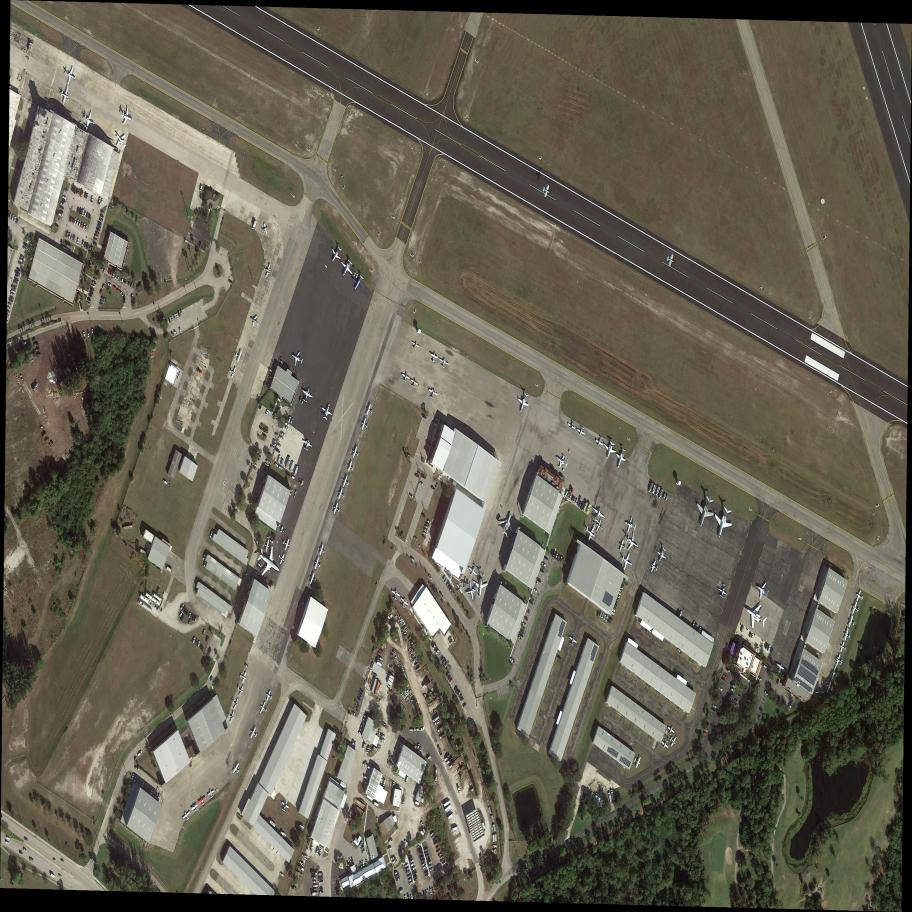large-vehicle: (421, 679, 431, 689), (285, 456, 292, 469), (444, 803, 453, 813), (268, 819, 277, 828), (443, 799, 452, 808), (655, 485, 661, 497), (293, 465, 299, 477), (648, 482, 654, 494), (289, 461, 295, 472), (651, 484, 657, 495), (658, 489, 664, 500), (447, 812, 455, 820), (379, 732, 387, 740), (610, 790, 615, 802), (251, 221, 257, 230), (608, 793, 613, 803), (377, 655, 384, 662), (363, 714, 370, 721), (451, 826, 459, 832), (457, 786, 462, 795), (351, 739, 356, 748), (353, 741, 358, 750), (416, 743, 421, 752), (379, 737, 386, 743), (362, 718, 369, 724), (361, 721, 368, 727), (360, 724, 367, 730), (359, 728, 366, 734), (417, 747, 423, 754), (362, 742, 367, 750), (366, 746, 371, 754), (378, 648, 384, 654), (377, 651, 383, 657), (358, 731, 364, 737), (299, 396, 302, 403), (409, 729, 415, 732), (301, 399, 304, 405), (420, 728, 424, 730)
plane: (250, 540, 288, 586), (739, 597, 772, 636), (690, 491, 720, 531), (708, 503, 737, 544), (495, 507, 519, 541), (334, 255, 359, 283), (108, 126, 132, 154), (347, 271, 370, 296), (586, 504, 611, 527), (622, 530, 643, 557), (326, 242, 347, 268), (513, 390, 533, 417), (550, 450, 573, 473), (599, 438, 620, 463), (752, 577, 772, 603), (611, 446, 630, 473), (581, 520, 600, 546), (472, 573, 489, 600), (287, 347, 306, 371), (618, 550, 637, 574), (80, 109, 98, 134), (119, 105, 137, 129), (318, 400, 336, 423), (298, 384, 316, 407), (622, 514, 639, 537), (653, 544, 670, 566), (438, 573, 455, 594), (465, 580, 480, 602), (63, 65, 78, 87), (58, 85, 72, 107), (465, 561, 481, 580), (435, 355, 453, 371), (396, 594, 412, 611), (714, 585, 731, 601), (229, 760, 244, 778), (178, 808, 194, 824), (257, 699, 271, 717), (247, 725, 261, 743), (339, 473, 353, 491), (248, 312, 262, 330), (565, 634, 581, 649), (300, 437, 314, 454), (349, 444, 362, 462), (306, 570, 319, 588), (311, 555, 324, 573), (261, 261, 274, 279), (593, 518, 606, 536), (648, 558, 661, 576), (849, 600, 862, 618), (277, 799, 292, 814), (773, 661, 788, 676), (426, 351, 442, 365), (330, 500, 343, 517), (334, 487, 347, 504), (426, 386, 440, 401), (407, 376, 422, 390), (574, 424, 589, 438), (275, 550, 288, 566), (359, 416, 371, 433), (363, 402, 375, 419), (854, 588, 866, 605), (845, 614, 857, 631), (833, 652, 845, 669), (664, 724, 678, 738), (658, 738, 672, 752), (398, 371, 413, 384), (389, 587, 402, 602), (667, 734, 680, 749), (540, 183, 552, 199), (280, 536, 292, 552), (227, 364, 239, 380), (232, 348, 244, 364), (616, 538, 628, 554), (631, 754, 643, 770), (842, 627, 853, 644), (824, 679, 835, 696), (408, 340, 422, 353), (565, 419, 579, 432), (196, 795, 210, 808), (263, 689, 275, 704), (453, 582, 465, 597), (594, 434, 606, 449), (235, 682, 246, 698), (238, 669, 249, 685), (345, 459, 356, 475), (665, 252, 676, 268), (317, 543, 327, 559), (830, 666, 840, 682), (230, 697, 240, 712), (838, 641, 848, 655), (262, 538, 271, 553), (189, 803, 201, 814), (227, 710, 236, 724), (260, 222, 269, 236), (206, 788, 216, 800), (815, 688, 824, 698), (462, 577, 470, 588)
ship: (279, 830, 288, 838), (196, 370, 205, 377), (277, 358, 284, 365), (298, 824, 305, 831), (268, 375, 274, 381), (265, 409, 269, 416), (268, 368, 273, 372), (263, 381, 267, 386)
small-vehicle: (445, 758, 455, 766), (443, 754, 452, 762), (432, 715, 441, 723), (301, 853, 309, 861), (439, 733, 447, 740), (760, 663, 768, 670), (422, 527, 430, 534), (441, 658, 448, 666), (413, 473, 421, 480), (420, 413, 428, 420), (403, 839, 410, 847), (162, 479, 169, 486), (434, 719, 441, 726), (523, 615, 530, 622), (432, 839, 439, 846), (710, 706, 717, 713), (409, 556, 416, 563), (429, 484, 436, 491), (432, 646, 439, 653), (420, 473, 427, 480), (257, 424, 264, 431), (261, 432, 268, 439), (262, 428, 269, 435), (276, 441, 283, 448), (274, 447, 281, 454), (387, 837, 394, 844), (183, 607, 189, 615), (91, 241, 99, 247), (437, 726, 445, 732), (535, 577, 543, 583), (420, 821, 426, 829), (360, 843, 366, 851), (580, 502, 585, 511), (678, 610, 683, 619), (115, 287, 122, 293), (85, 301, 92, 307), (86, 296, 93, 302), (14, 270, 21, 276), (88, 289, 95, 295), (137, 750, 143, 757), (92, 277, 99, 283), (208, 675, 214, 682), (53, 222, 60, 228), (99, 209, 106, 215), (96, 223, 102, 230), (425, 755, 432, 761), (362, 779, 369, 785), (363, 775, 370, 781), (362, 761, 369, 767), (366, 765, 373, 771), (509, 658, 516, 664), (518, 632, 525, 638), (519, 628, 526, 634), (539, 568, 546, 574), (410, 866, 417, 872), (420, 858, 427, 864), (426, 860, 433, 866), (441, 861, 448, 867), (436, 849, 443, 855), (435, 845, 442, 851), (720, 676, 727, 682), (726, 696, 733, 702), (726, 667, 732, 674), (764, 690, 770, 697), (676, 648, 683, 654), (607, 615, 614, 621), (556, 654, 562, 661), (613, 595, 620, 601), (614, 593, 621, 599), (428, 575, 434, 582), (412, 536, 419, 542), (420, 533, 427, 539), (441, 595, 447, 602), (443, 578, 449, 585), (445, 580, 451, 587), (432, 643, 438, 650), (434, 649, 441, 655), (447, 635, 453, 642), (445, 671, 451, 678), (267, 451, 273, 458), (271, 438, 278, 444), (283, 424, 289, 431), (285, 472, 292, 478), (456, 691, 462, 698), (390, 855, 397, 861), (407, 877, 414, 883), (299, 861, 306, 867), (145, 785, 150, 793), (180, 614, 185, 622), (207, 648, 212, 656), (205, 635, 210, 643), (194, 638, 199, 646), (10, 214, 15, 222), (554, 553, 559, 561), (564, 490, 569, 498), (566, 491, 571, 499), (788, 703, 793, 711), (287, 416, 292, 424), (315, 847, 320, 855), (50, 873, 56, 879), (112, 284, 118, 290), (107, 282, 113, 288), (73, 217, 77, 226), (13, 276, 19, 282), (12, 280, 18, 286), (23, 836, 29, 842), (254, 570, 260, 576), (18, 849, 24, 855), (28, 856, 34, 862), (57, 873, 63, 879), (59, 857, 65, 863), (19, 254, 25, 260), (11, 285, 17, 291), (8, 295, 14, 301), (95, 226, 101, 232), (528, 599, 534, 605), (533, 587, 539, 593), (541, 562, 547, 568), (543, 555, 549, 561), (410, 862, 416, 868), (407, 855, 413, 861), (437, 852, 443, 858), (431, 834, 437, 840), (718, 686, 724, 692), (728, 690, 734, 696), (731, 683, 737, 689), (716, 689, 722, 695), (732, 701, 738, 707), (757, 676, 763, 682), (606, 618, 612, 624), (616, 587, 622, 593), (256, 452, 262, 458), (422, 531, 428, 537), (458, 693, 464, 699), (425, 522, 431, 528), (420, 512, 426, 518), (419, 480, 425, 486), (443, 662, 449, 668), (274, 432, 280, 438), (279, 435, 285, 441), (392, 858, 398, 864), (407, 873, 413, 879), (109, 270, 114, 277), (87, 293, 94, 298), (17, 261, 24, 266), (15, 267, 22, 272), (90, 284, 97, 289), (173, 329, 178, 336), (170, 331, 175, 338), (180, 604, 185, 611), (149, 788, 154, 795), (151, 790, 156, 797), (154, 793, 159, 800), (156, 794, 161, 801), (182, 605, 187, 612), (192, 637, 197, 644), (406, 851, 411, 858), (432, 837, 439, 842), (750, 633, 755, 640), (552, 550, 557, 557), (596, 610, 601, 617), (617, 585, 624, 590), (662, 492, 667, 499), (411, 870, 418, 875), (269, 445, 276, 450), (431, 422, 438, 427), (284, 422, 291, 427), (300, 480, 305, 487), (359, 841, 364, 848), (404, 867, 411, 872), (125, 278, 129, 286), (132, 281, 136, 289), (130, 280, 134, 288), (147, 787, 151, 795), (131, 773, 135, 781), (141, 781, 145, 789), (143, 783, 147, 791), (69, 215, 73, 223), (81, 209, 85, 217), (79, 208, 83, 216), (210, 530, 214, 538), (203, 553, 207, 561), (192, 614, 196, 622), (194, 615, 198, 623), (85, 242, 89, 250), (15, 217, 19, 225), (73, 186, 77, 194), (80, 190, 84, 198), (98, 198, 102, 206), (405, 776, 409, 784), (557, 554, 561, 562), (698, 626, 702, 634), (603, 613, 607, 621), (694, 622, 698, 630), (424, 889, 428, 897), (310, 844, 314, 852), (318, 849, 322, 857), (120, 291, 125, 297), (98, 302, 104, 307), (22, 341, 28, 346), (22, 246, 28, 251), (19, 258, 25, 263), (14, 274, 20, 279), (7, 302, 13, 307), (4, 840, 10, 845), (253, 462, 258, 468), (252, 465, 258, 470), (279, 872, 285, 877), (269, 539, 275, 544), (51, 857, 57, 862), (244, 663, 249, 669), (57, 212, 63, 217), (58, 209, 64, 214), (59, 205, 65, 210), (61, 198, 66, 204), (63, 188, 69, 193), (98, 217, 104, 222), (255, 456, 261, 461), (522, 622, 528, 627), (402, 796, 405, 806), (409, 859, 415, 864), (423, 870, 429, 875), (422, 865, 428, 870), (421, 862, 427, 867), (419, 855, 425, 860), (423, 847, 429, 852), (427, 864, 433, 869), (428, 868, 434, 873), (440, 858, 446, 863), (439, 855, 445, 860), (430, 831, 436, 836), (728, 694, 734, 699), (730, 687, 736, 692), (722, 674, 728, 679), (712, 704, 718, 709), (705, 723, 711, 728), (734, 698, 739, 704), (746, 698, 752, 703), (609, 611, 615, 616), (611, 605, 617, 610), (612, 602, 618, 607), (619, 582, 625, 587), (438, 590, 443, 596), (424, 525, 430, 530), (426, 520, 432, 525), (449, 586, 454, 592), (449, 639, 454, 645), (447, 675, 452, 681), (453, 686, 459, 691), (416, 471, 422, 476), (264, 462, 270, 467), (263, 466, 269, 471), (262, 469, 268, 474), (273, 463, 279, 468), (265, 459, 271, 464), (280, 432, 286, 437), (361, 848, 366, 854), (395, 877, 401, 882), (394, 874, 400, 879), (393, 871, 399, 876), (387, 846, 393, 851), (408, 881, 414, 886), (312, 891, 318, 896), (127, 279, 131, 286), (114, 272, 118, 279), (112, 271, 116, 278), (99, 288, 103, 295), (83, 210, 87, 217), (82, 223, 86, 230), (80, 222, 84, 229), (88, 213, 92, 220), (81, 240, 85, 247), (177, 311, 181, 318), (168, 317, 172, 324), (203, 561, 207, 568), (202, 630, 206, 637), (197, 641, 201, 648), (188, 619, 192, 626), (190, 613, 194, 620), (188, 612, 192, 619), (186, 610, 190, 617), (83, 241, 87, 248), (280, 526, 284, 533), (71, 185, 75, 192), (100, 198, 104, 205), (420, 892, 424, 899), (382, 779, 386, 786), (422, 890, 426, 897), (571, 495, 575, 502), (573, 496, 577, 503), (741, 626, 745, 633), (748, 631, 752, 638), (770, 647, 774, 654), (575, 498, 579, 505), (578, 501, 582, 508), (599, 611, 603, 618), (601, 612, 605, 619), (605, 615, 609, 622), (665, 495, 669, 502), (692, 621, 696, 628), (277, 456, 281, 463), (199, 185, 203, 192), (355, 864, 359, 871), (346, 860, 350, 867), (346, 888, 350, 895), (343, 888, 347, 895), (431, 887, 435, 894), (427, 889, 431, 896), (101, 284, 106, 289), (257, 563, 262, 568), (256, 565, 261, 570), (258, 560, 263, 565), (8, 299, 13, 304), (62, 195, 67, 200), (99, 213, 104, 218), (94, 234, 99, 239), (93, 238, 98, 243), (424, 851, 429, 856), (425, 873, 430, 878), (419, 851, 424, 856), (425, 854, 430, 859), (704, 728, 709, 733), (611, 608, 616, 613), (414, 878, 419, 883), (409, 493, 414, 498), (440, 657, 445, 662), (449, 678, 454, 683), (455, 689, 460, 694), (278, 465, 283, 470), (459, 696, 464, 701), (399, 888, 404, 893), (462, 703, 467, 708), (319, 875, 324, 880), (406, 870, 411, 875), (103, 267, 107, 273), (123, 295, 126, 303), (131, 293, 134, 301), (133, 776, 137, 782), (139, 780, 143, 786), (101, 265, 105, 271), (72, 236, 76, 242), (70, 235, 74, 241), (71, 217, 75, 223), (89, 287, 95, 291), (170, 317, 174, 323), (178, 328, 182, 334), (253, 574, 259, 578), (179, 611, 183, 617), (76, 238, 80, 244), (60, 202, 66, 206), (86, 194, 90, 200), (392, 781, 395, 789), (768, 645, 771, 653), (776, 678, 780, 684), (576, 501, 580, 507), (616, 591, 622, 595), (198, 242, 202, 248), (290, 418, 294, 424), (297, 479, 301, 485), (365, 860, 369, 866), (362, 861, 366, 867), (349, 859, 353, 865), (311, 872, 317, 876), (121, 276, 124, 283), (108, 268, 111, 275), (87, 331, 90, 338), (91, 329, 94, 336), (68, 233, 71, 240), (66, 231, 69, 238), (85, 224, 88, 231), (86, 211, 89, 218), (176, 313, 179, 320), (13, 216, 16, 223), (78, 188, 81, 195), (569, 486, 572, 493), (430, 888, 433, 895), (100, 300, 105, 304), (101, 297, 106, 301), (11, 290, 16, 294), (271, 537, 276, 541), (271, 533, 276, 537), (426, 857, 431, 861), (413, 875, 418, 879), (703, 732, 708, 736), (613, 599, 618, 603), (404, 864, 409, 868), (319, 872, 324, 876), (312, 876, 317, 880), (117, 274, 120, 280), (78, 221, 81, 227), (76, 219, 79, 225), (173, 315, 176, 321), (180, 310, 183, 316), (76, 188, 79, 194), (84, 193, 87, 199), (91, 197, 94, 203), (569, 494, 572, 500), (560, 556, 563, 562), (571, 488, 574, 494), (578, 495, 581, 501), (281, 460, 284, 466), (320, 890, 324, 894), (319, 879, 323, 883), (9, 214, 12, 219), (313, 884, 318, 887), (83, 332, 85, 339), (313, 880, 316, 883)
